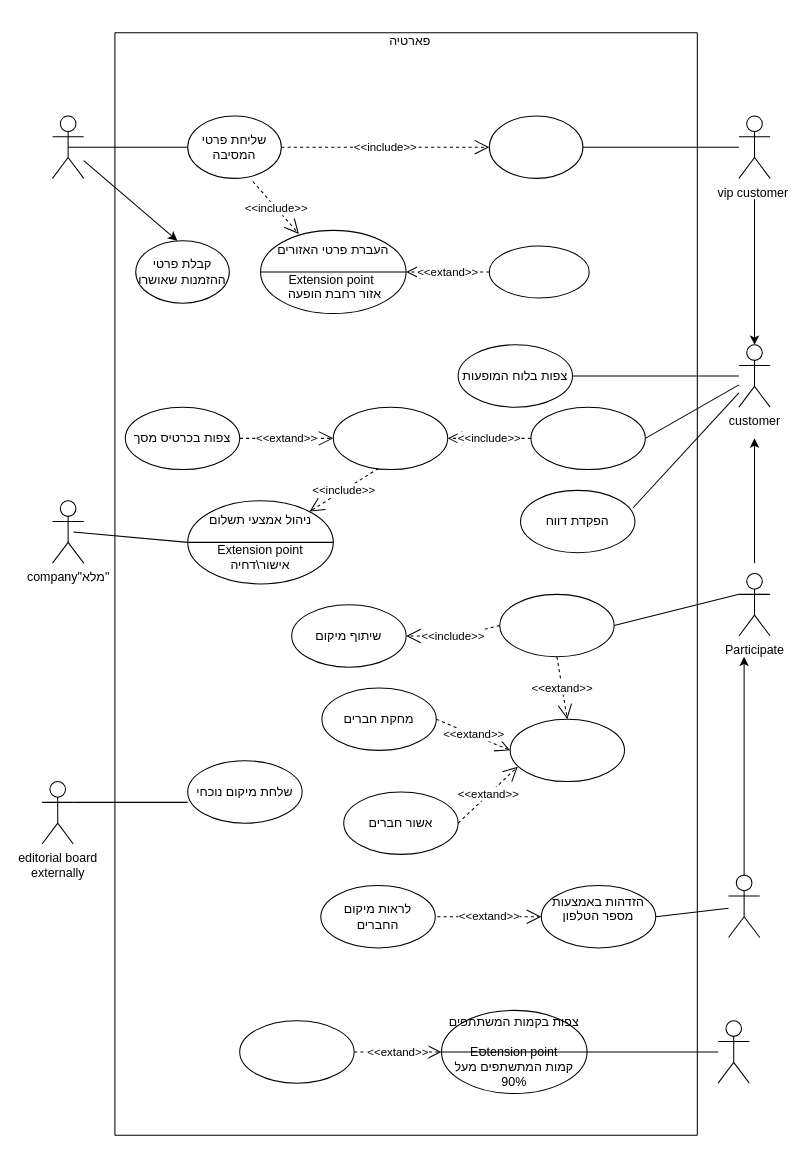
The diagram is 809 pixels wide and 1154 high, and some of its shapes have lost their labels. The box of each missing label's shape, as (x1, y1, x2, y2) in pixels:
friend: (727, 874, 760, 938)
head of the security system: (717, 1020, 749, 1083)
mange party: (51, 115, 84, 178)
ביצוע תשלום: (332, 406, 448, 470)
הוריד יושמן לטלפון: (499, 593, 614, 657)
הזמנת כרטסים: (530, 406, 645, 470)
העברת סגנון המוזיקה: (488, 245, 589, 298)
יצרת חברים: (509, 718, 625, 782)
קבלת התראה popup: (239, 1020, 354, 1083)
שלחת התראה על מסיבות חדשות: (488, 115, 583, 178)
